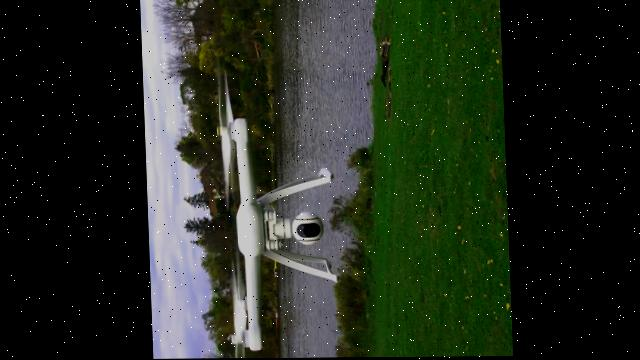drone: (208, 57, 356, 359)
